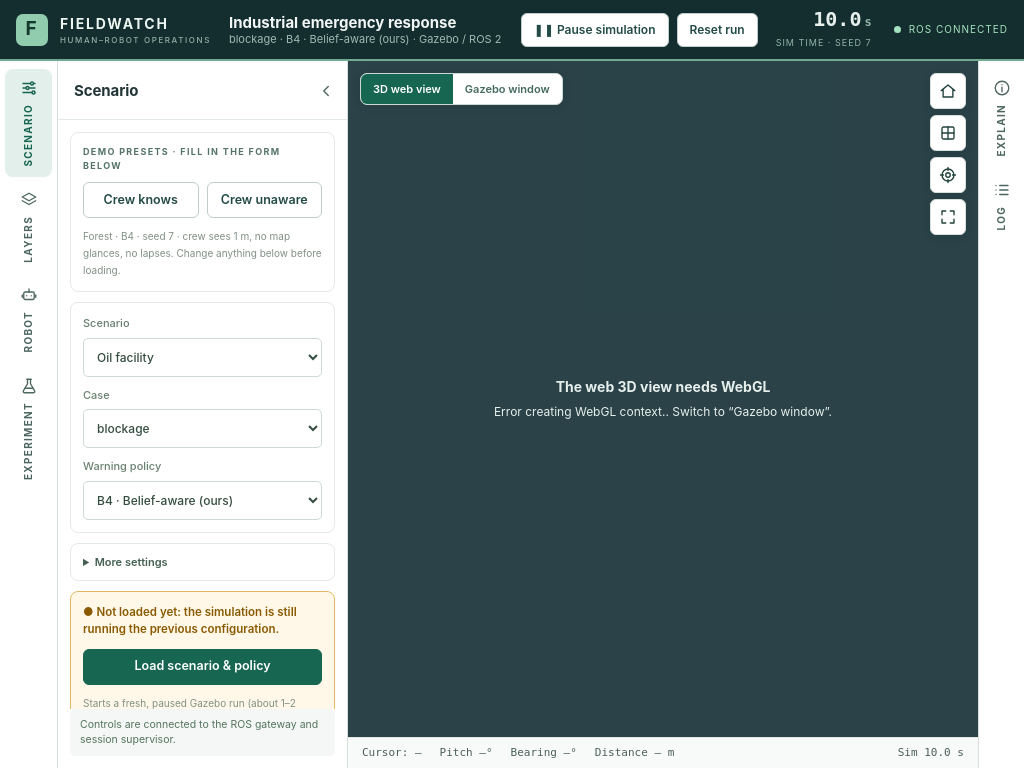
Scenario: keeps one screen: configuration sections on the left, the world in the middle, the explanation on the right
Expected: the button "Load scenario & policy" is shown, [83,648,322,684]
Click the tab "Experiment" at (28, 428), box [5,367,52,490]
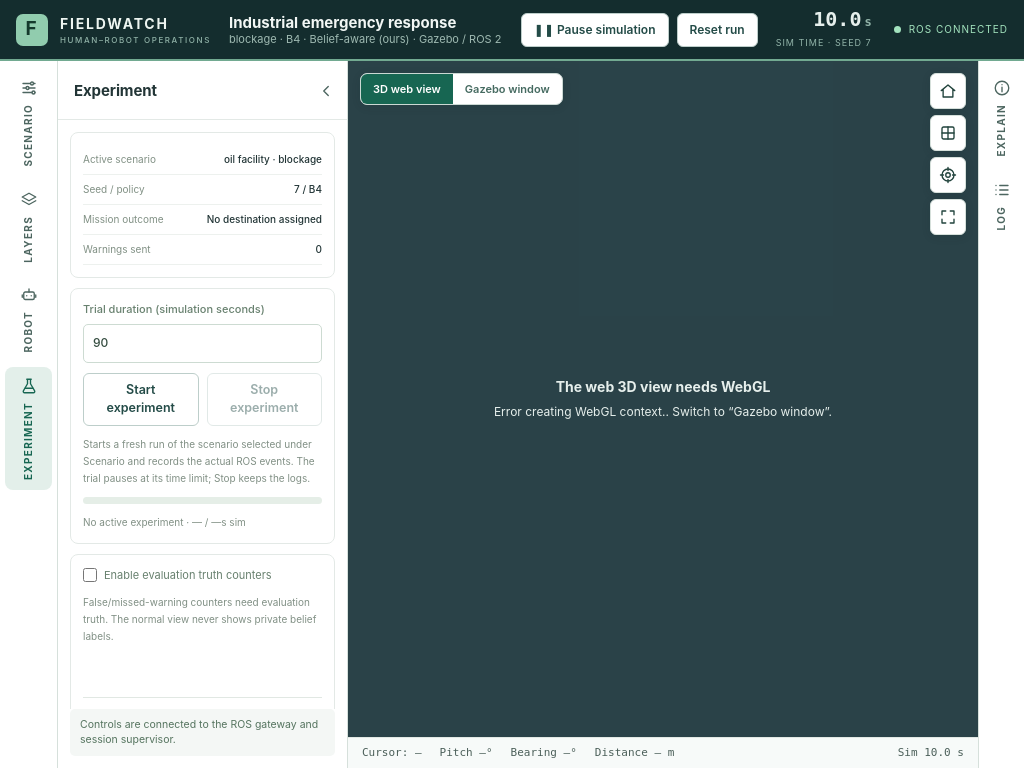
Result: the button "Start experiment" is shown at [83,372,198,426]
Result: the button "Load scenario & policy" is gone
Click the tab "Experiment" at (28, 428), box [5,367,52,490]
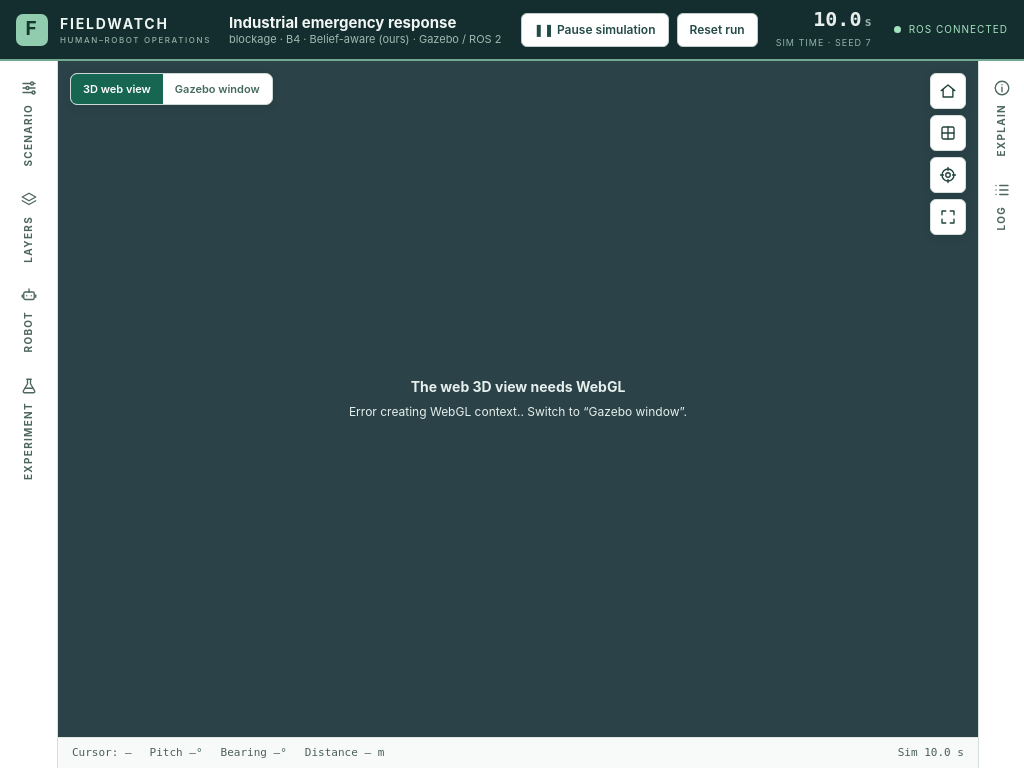
Expected: the tab "3D web view" is shown, [71,74,163,104]
Result: the button "Start experiment" is gone
